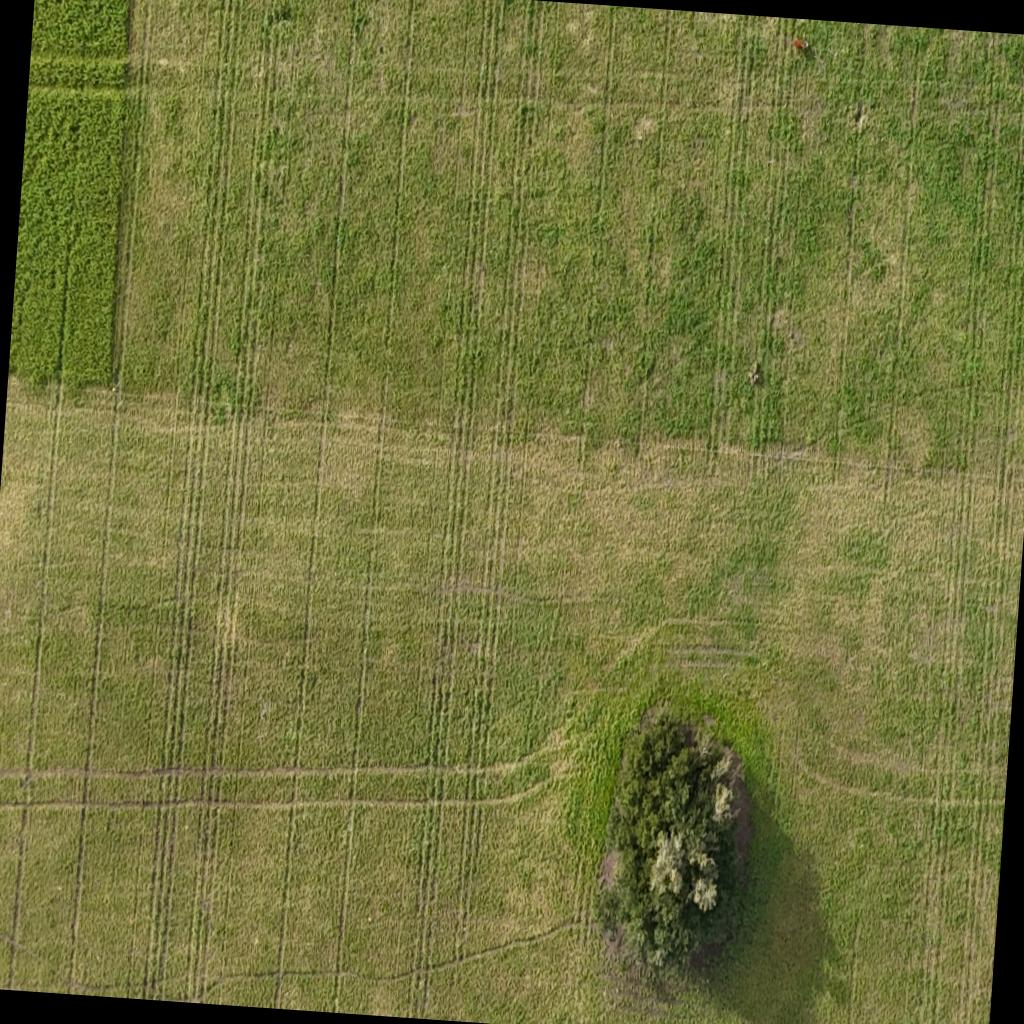cow: (789, 32, 810, 57)
